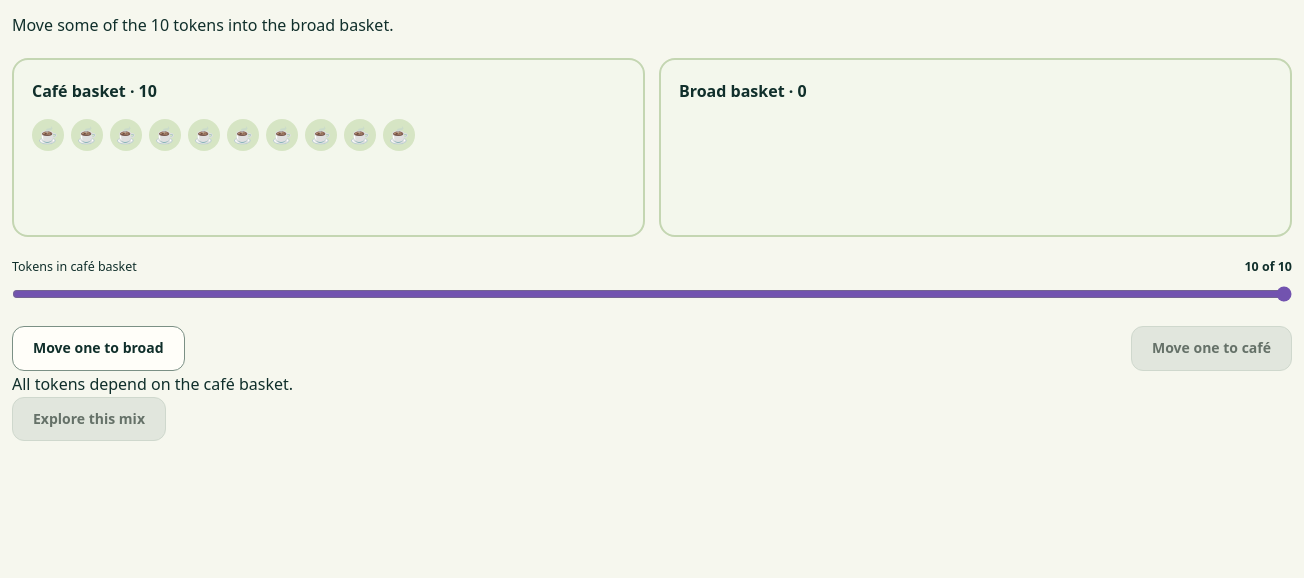
Scenario: offers tap controls for moving allocation tokens without dragging
Click the button "Move one to broad".
click(98, 348)  # box [12,326,185,371]
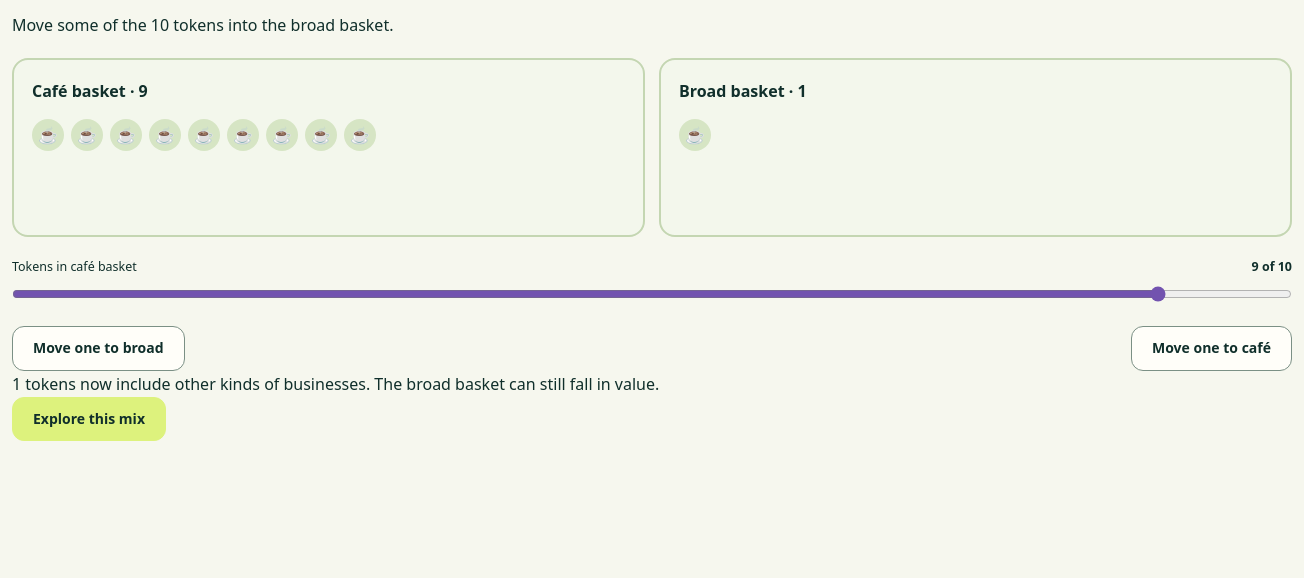
Click the button "Explore this mix".
click(89, 419)  # box [12,397,166,441]
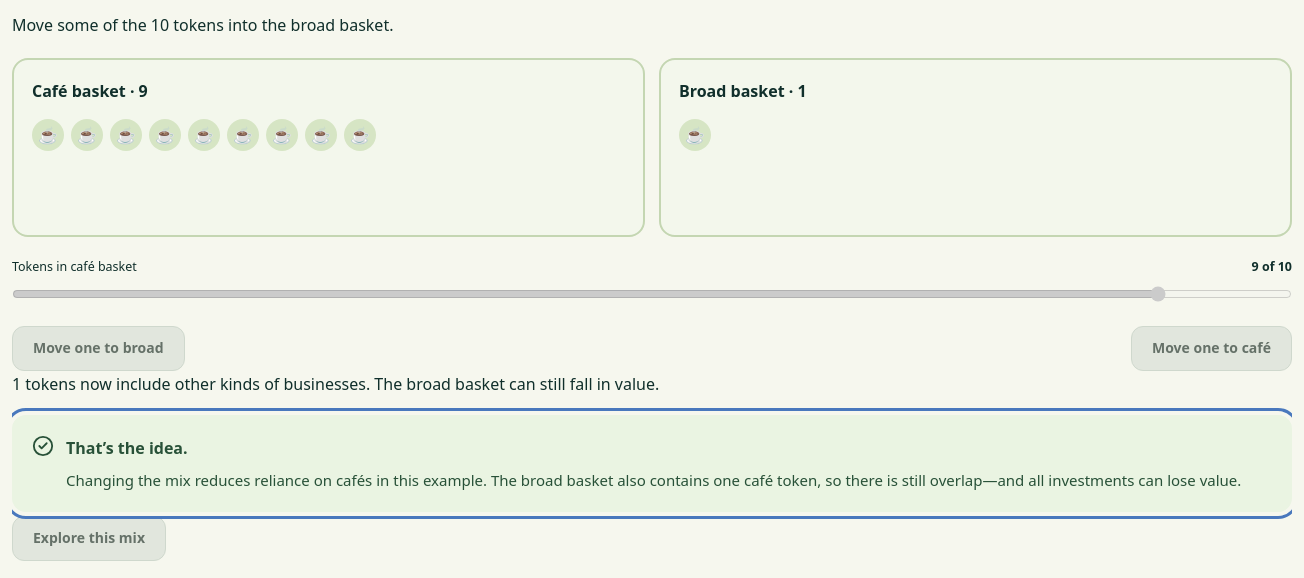
Now the message shows "basket", box [66,470,1241,490]
